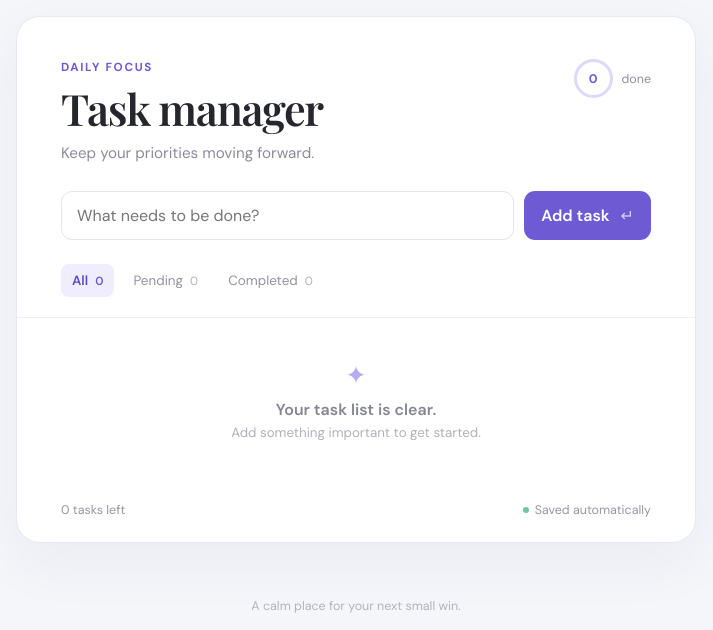
Test case: task manager › adds a task
Type "Plan the week" into the field named "Add a task".
click(288, 215); type("Plan the week")  # box x1=61 y1=191 x2=514 y2=240
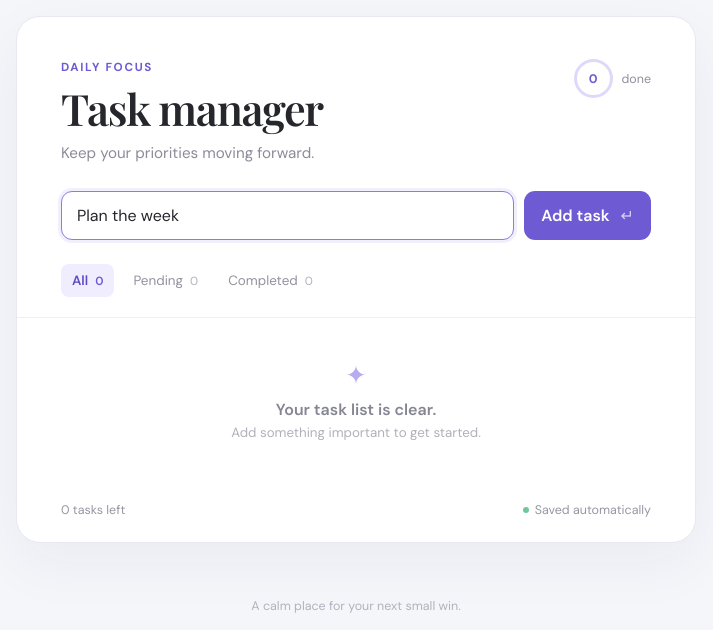
Click the button "Add task ↵".
click(588, 215)  # box x1=524 y1=191 x2=651 y2=240
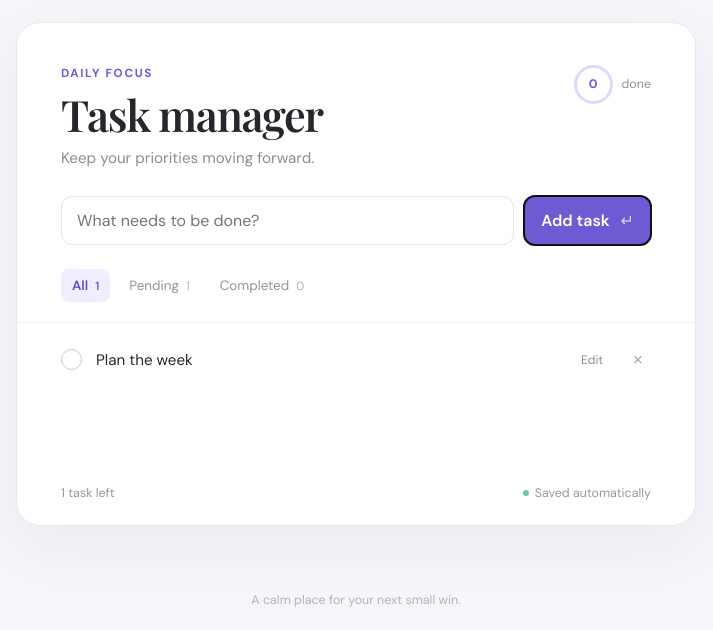
Now the text "Plan the week" is shown, box x1=96 y1=350 x2=193 y2=370
Now the text "1 task left" is shown, box x1=61 y1=485 x2=115 y2=501
